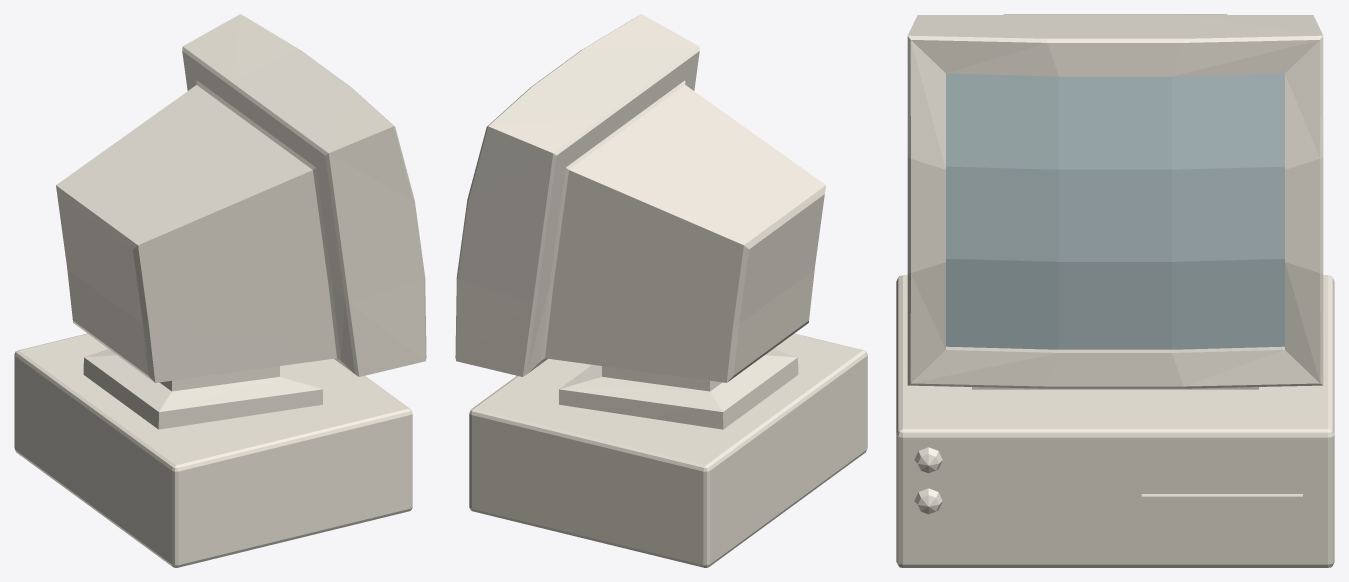
File: monitorScreen.glb
The picture shows the model from 3 angles, left to right: view 1: azimuth 30°, elevation 25°; view 2: azimuth 150°, elevation 25°; view 3: azimuth 270°, elevation 25°; orthographic projection. The views are drawn at different scales.
Visible parts, largest first — view 1: Computer; view 2: Computer; view 3: Computer, Screen.
Boxes of the visible parts, <box> form: Computer: <box>14,14,426,567</box>; Computer: <box>455,14,867,567</box>; Computer: <box>896,14,1334,567</box>; Screen: <box>946,73,1284,349</box>.
Size of the model in its own units: 44 by 62.72 by 46.69.
2 materials, 1 textured.
